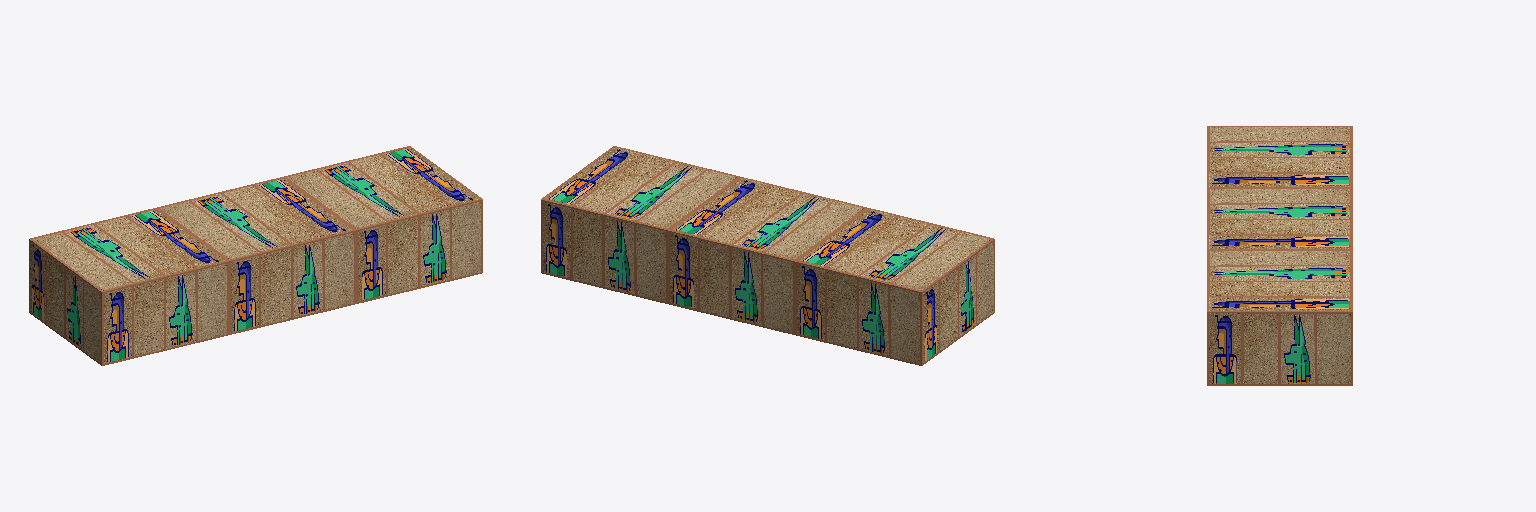
3 renders of one model, left to right at view 1: azimuth 30°, elevation 25°; view 2: azimuth 150°, elevation 25°; view 3: azimuth 270°, elevation 25°, orthographic.
Visible parts, largest first — view 1: Box101; view 2: Box101; view 3: Box101.
Boxes of the visible parts, x1=… form: Box101: x1=29, y1=146, x2=482, y2=365; Box101: x1=541, y1=146, x2=994, y2=365; Box101: x1=1207, y1=126, x2=1352, y2=385.
Size of the model in its own units: 13.5 by 2.5 by 4.5.
1 materials, 1 textured.